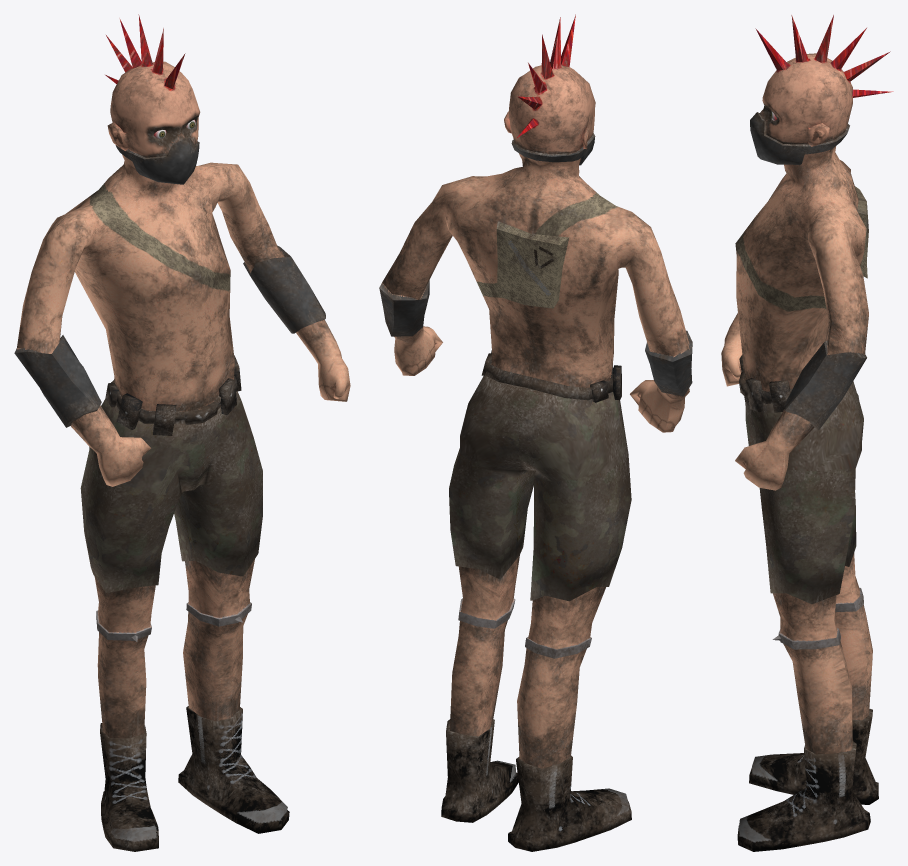
The model's file is Anim_disparar_ametralladora_npc2.0035.obj.
3 renders of one model, left to right at view 1: azimuth 30°, elevation 25°; view 2: azimuth 150°, elevation 25°; view 3: azimuth 270°, elevation 25°, orthographic. The views are drawn at different scales.
Visible parts, largest first — view 1: polySurface1; view 2: polySurface1; view 3: polySurface1.
Part boxes in pixels (x1,y1,x2,y2): polySurface1: (14, 14, 350, 851); polySurface1: (379, 14, 692, 851); polySurface1: (721, 15, 893, 851).
Bounding box in the file's own units: 4.14 × 10.22 × 2.02.
2 materials, 2 textured.
